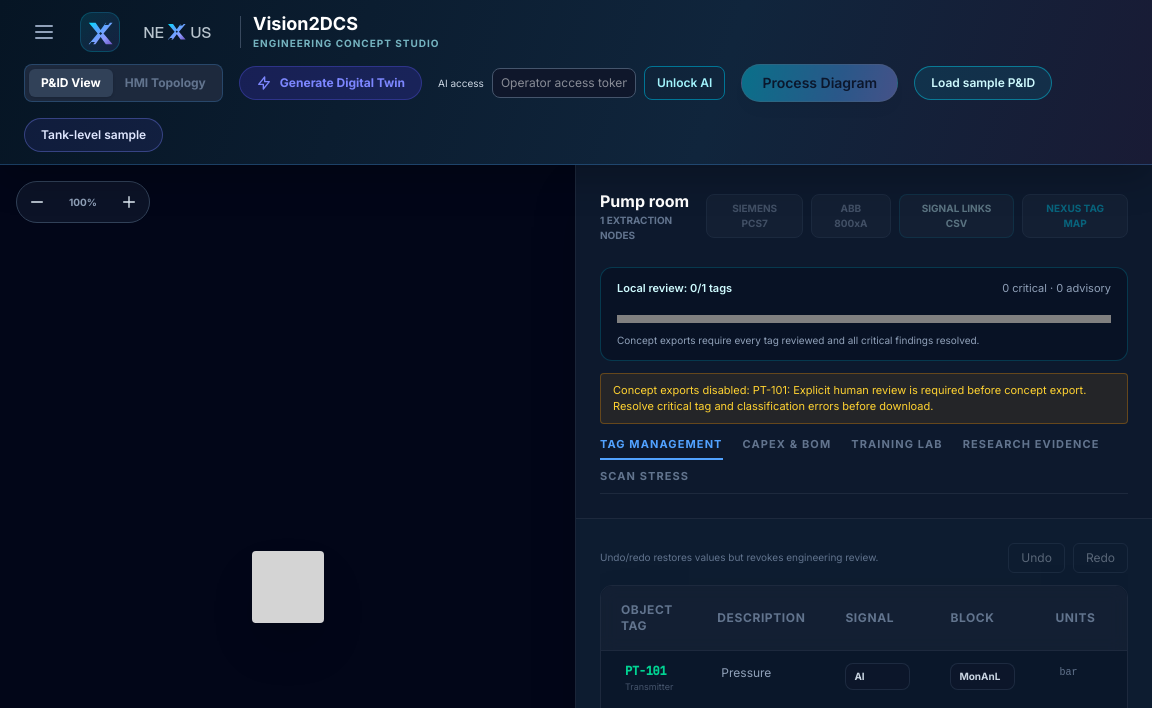
Test: instrument review/export DOM acceptance › requires a separate operator token before enabling billable AI actions
Expected: the button "Process Diagram" is disabled, [741, 64, 898, 102]
Expected: the button "Generate Digital Twin" is disabled, [239, 66, 422, 100]
Click the button "Unlock AI". click: (685, 83)
box: [644, 66, 725, 100]
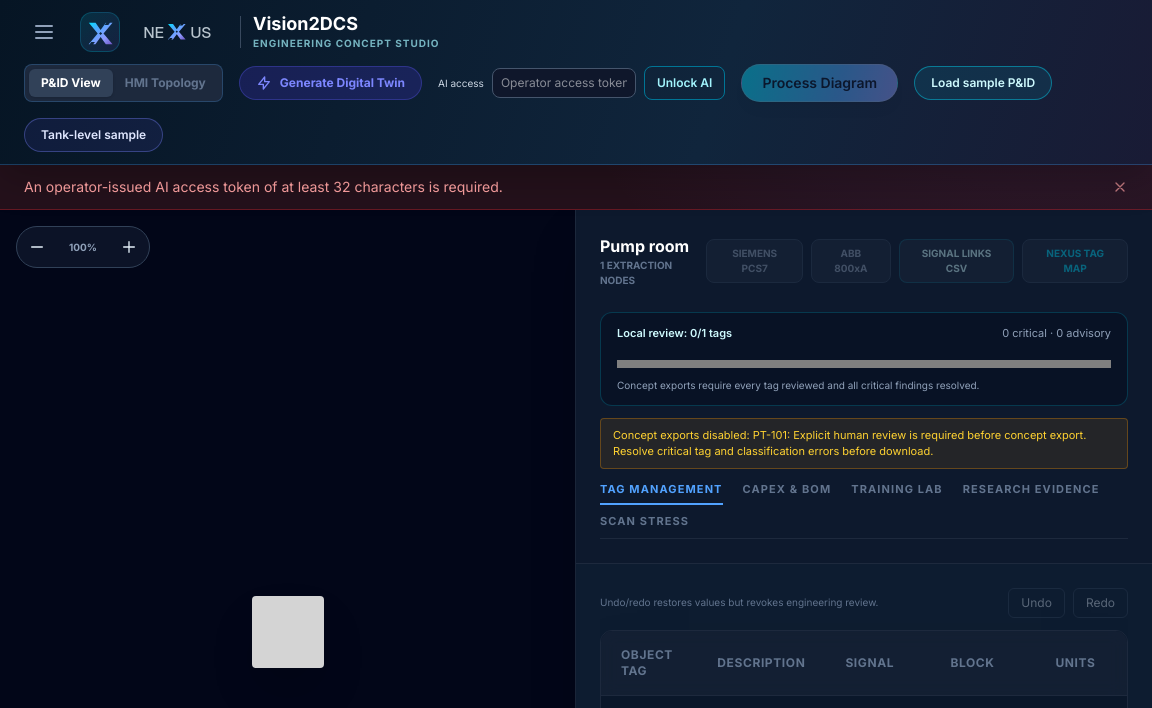
Result: the text "at least 32 characters" is shown at [24, 178, 503, 195]
